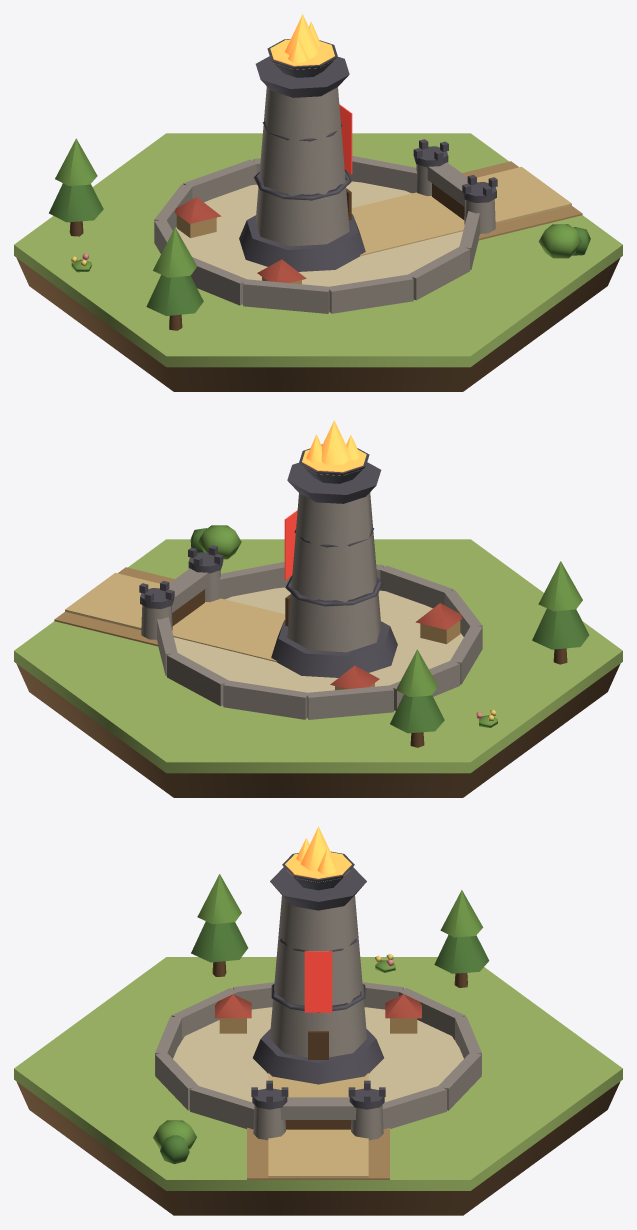
Rendered from tile_base_beacon.glb.
The picture shows the model from 3 angles, top to bottom: view 1: azimuth 30°, elevation 25°; view 2: azimuth 150°, elevation 25°; view 3: azimuth 270°, elevation 25°; orthographic projection.
Parts seen in each view (by area): view 1: ground, ground_soil, tower_body, road, courtyard, tower_foot, wall_6, wall_7, tower_top, deco_tree_3_crown, wall_8, wall_0 (+18 smaller); view 2: ground, ground_soil, tower_body, road, courtyard, tower_foot, wall_3, wall_2, tower_top, wall_1, deco_tree_3_crown, wall_9 (+19 smaller); view 3: ground, ground_soil, courtyard, tower_body, road, tower_foot, tower_top, wall_0, wall_9, tower_banner, deco_tree_3_crown, gate_arch (+22 smaller).
Part boxes in pixels (bbox=[...]): ground: bbox=[14, 133, 622, 367]; ground_soil: bbox=[16, 258, 620, 391]; tower_body: bbox=[255, 86, 349, 246]; road: bbox=[351, 161, 582, 255]; courtyard: bbox=[176, 181, 462, 286]; tower_foot: bbox=[239, 214, 365, 271]; wall_6: bbox=[243, 279, 329, 313]; wall_7: bbox=[328, 274, 413, 313]; tower_top: bbox=[255, 56, 349, 97]; deco_tree_3_crown: bbox=[146, 275, 203, 315]; wall_8: bbox=[408, 247, 469, 300]; wall_0: bbox=[346, 156, 417, 192]; ground: bbox=[14, 539, 622, 773]; ground_soil: bbox=[16, 664, 620, 797]; tower_body: bbox=[287, 492, 381, 652]; road: bbox=[54, 567, 285, 661]; courtyard: bbox=[174, 587, 463, 692]; tower_foot: bbox=[271, 620, 397, 677]; wall_3: bbox=[307, 685, 393, 719]; wall_2: bbox=[223, 680, 308, 719]; tower_top: bbox=[287, 462, 381, 503]; wall_1: bbox=[167, 653, 228, 706]; deco_tree_3_crown: bbox=[532, 608, 589, 649]; wall_9: bbox=[219, 562, 290, 598]; ground: bbox=[14, 957, 622, 1190]; ground_soil: bbox=[16, 1081, 620, 1215]; courtyard: bbox=[173, 1007, 463, 1102]; tower_body: bbox=[269, 895, 367, 1057]; road: bbox=[247, 1073, 389, 1179]; tower_foot: bbox=[253, 1029, 383, 1084]; tower_top: bbox=[270, 867, 366, 910]; wall_0: bbox=[382, 1086, 446, 1129]; wall_9: bbox=[190, 1086, 254, 1129]; tower_banner: bbox=[304, 951, 332, 1012]; deco_tree_3_crown: bbox=[191, 921, 248, 962]; gate_arch: bbox=[280, 1097, 356, 1119].
Size of the model in its own units: 1.73 by 1 by 2.
